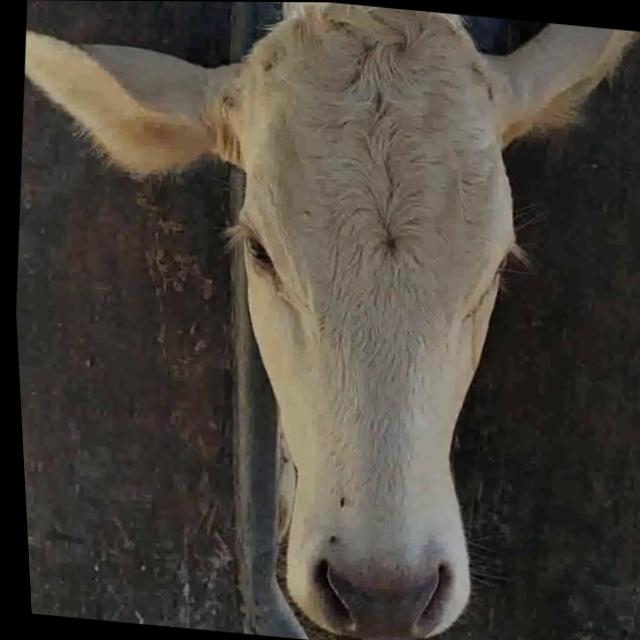cowFace: (185, 1, 544, 640)
